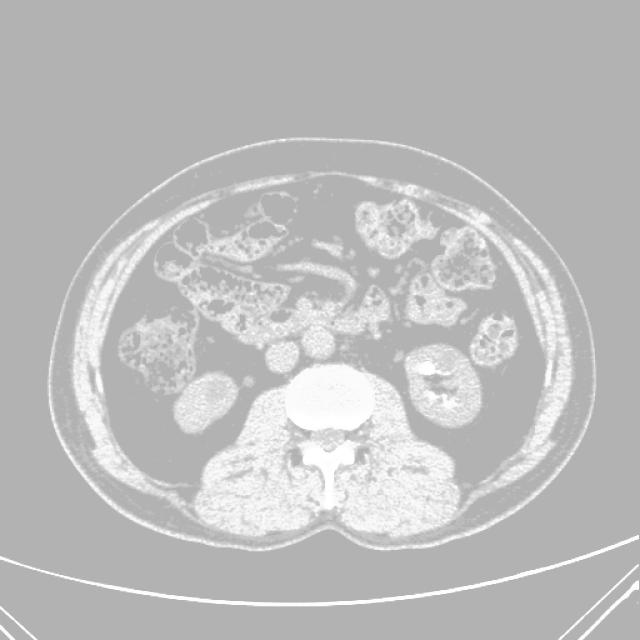STONE: (173, 220, 495, 453)
